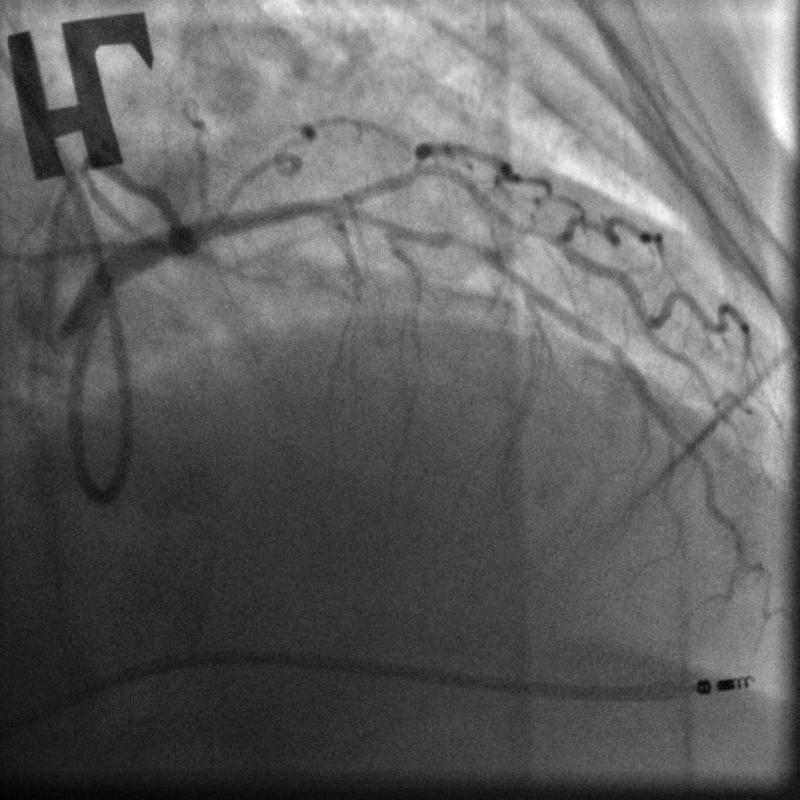Stenosis: (430, 220, 495, 260)
